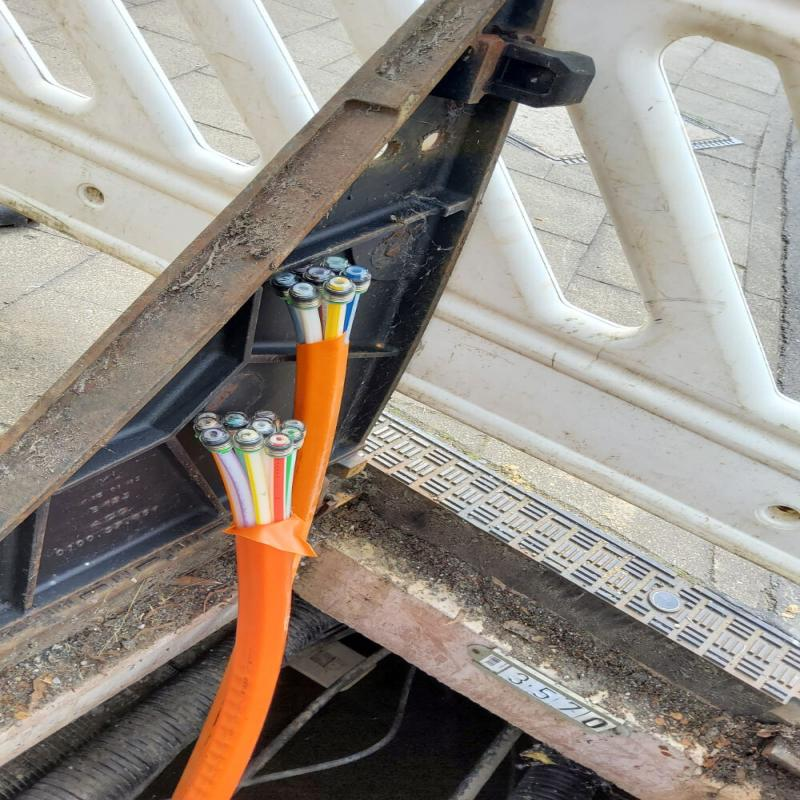Orang-Speednetrohrchen: (170, 255, 372, 797)
